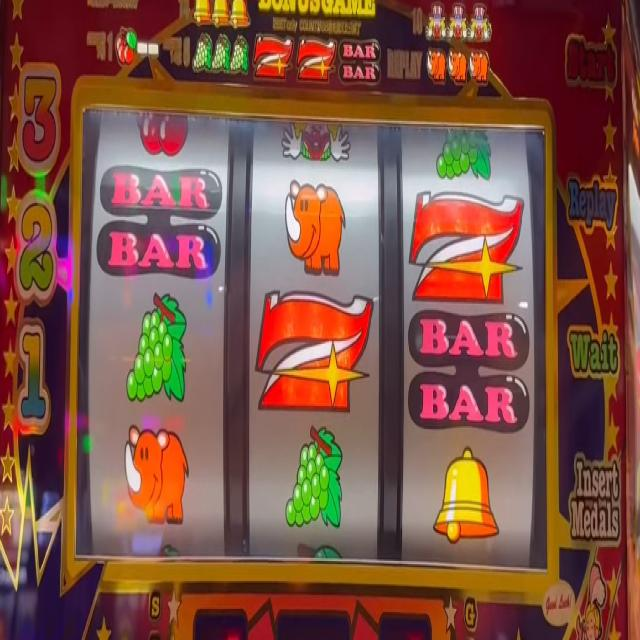bar: (96, 162, 222, 284), (407, 312, 528, 434), (339, 38, 380, 83)
bell: (434, 443, 500, 548), (229, 0, 250, 29), (192, 0, 211, 28), (212, 0, 230, 28)
cherry: (132, 106, 188, 156), (115, 27, 136, 68)
clown: (284, 118, 351, 160), (426, 1, 448, 42), (448, 2, 467, 44), (470, 5, 490, 43)
display: (79, 101, 548, 574)
elephant: (125, 423, 190, 520), (284, 175, 347, 274), (425, 49, 446, 83), (447, 49, 468, 82), (470, 51, 490, 83)
grape: (124, 285, 188, 403), (284, 423, 344, 532), (436, 120, 493, 182), (192, 32, 212, 74), (228, 34, 248, 76), (212, 33, 229, 73)
z: (255, 289, 374, 418), (408, 188, 525, 304), (254, 32, 292, 80), (299, 35, 335, 83)
